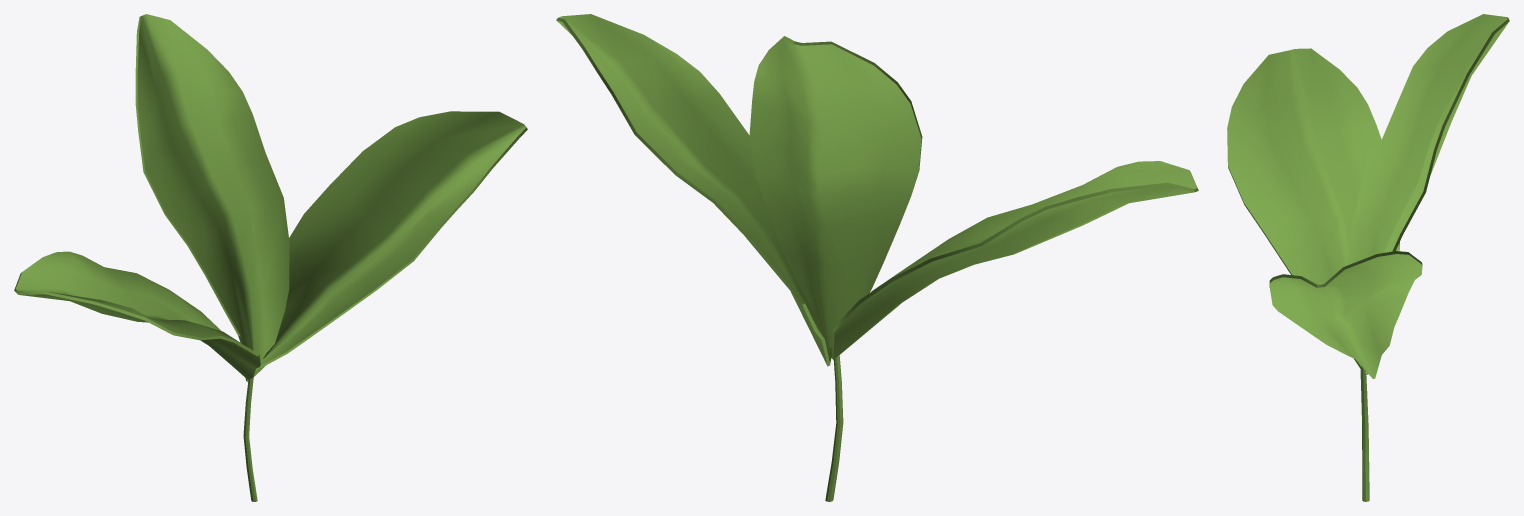
The model's file is sugarcane_st1.fbx.
3 views of the same model, side by side, from view 1: azimuth 30°, elevation 25°; view 2: azimuth 150°, elevation 25°; view 3: azimuth 270°, elevation 25° (orthographic). The views are drawn at different scales.
Visible parts, largest first — view 1: sugarcane1; view 2: sugarcane1; view 3: sugarcane1.
Boxes of the visible parts, <box> form: sugarcane1: <box>14,14,527,501</box>; sugarcane1: <box>556,14,1198,501</box>; sugarcane1: <box>1227,14,1509,501</box>.
Bounding box in the file's own units: 1.77 × 1.44 × 0.7985.
